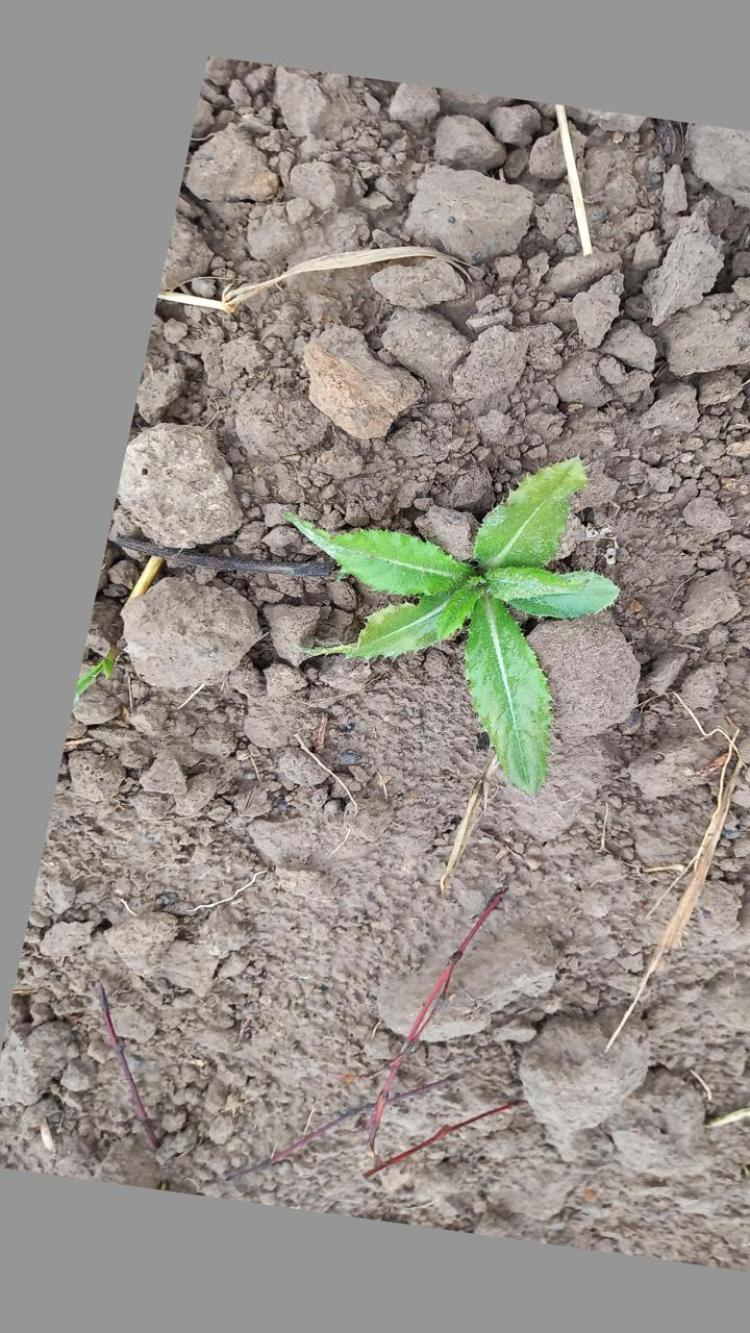bodyak: (283, 458, 621, 794)
